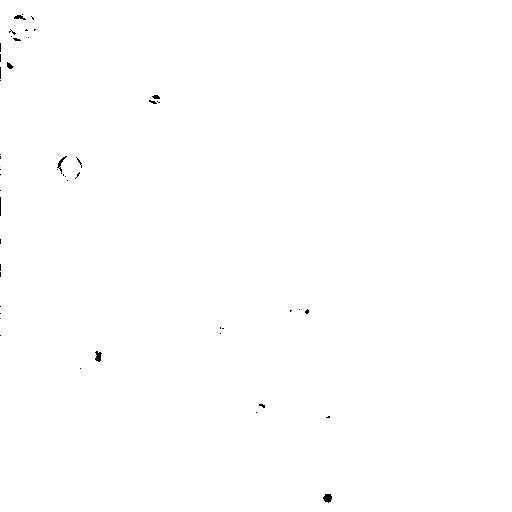micro-algae: (177, 47, 249, 123), (393, 168, 469, 239), (1, 202, 51, 273), (87, 336, 136, 383), (46, 341, 91, 389), (289, 292, 322, 327), (310, 478, 344, 511), (7, 6, 37, 40), (2, 43, 27, 77), (58, 151, 82, 182), (249, 395, 269, 420)
